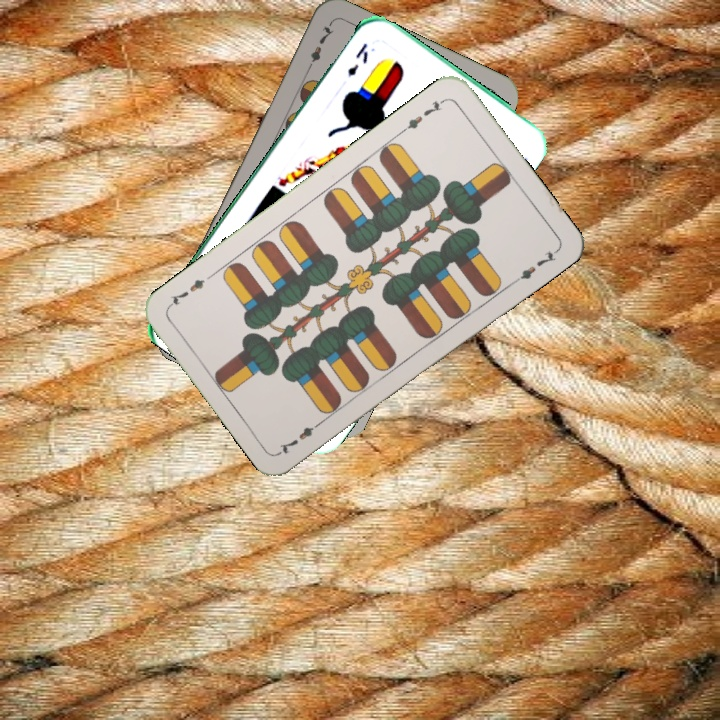E7: (398, 94, 449, 135), (275, 416, 326, 457), (302, 20, 336, 75)
EK: (343, 39, 371, 80)
